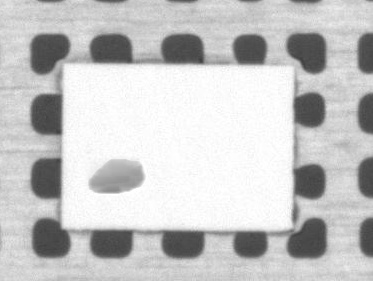DIE_INK: (106, 115, 202, 151)
